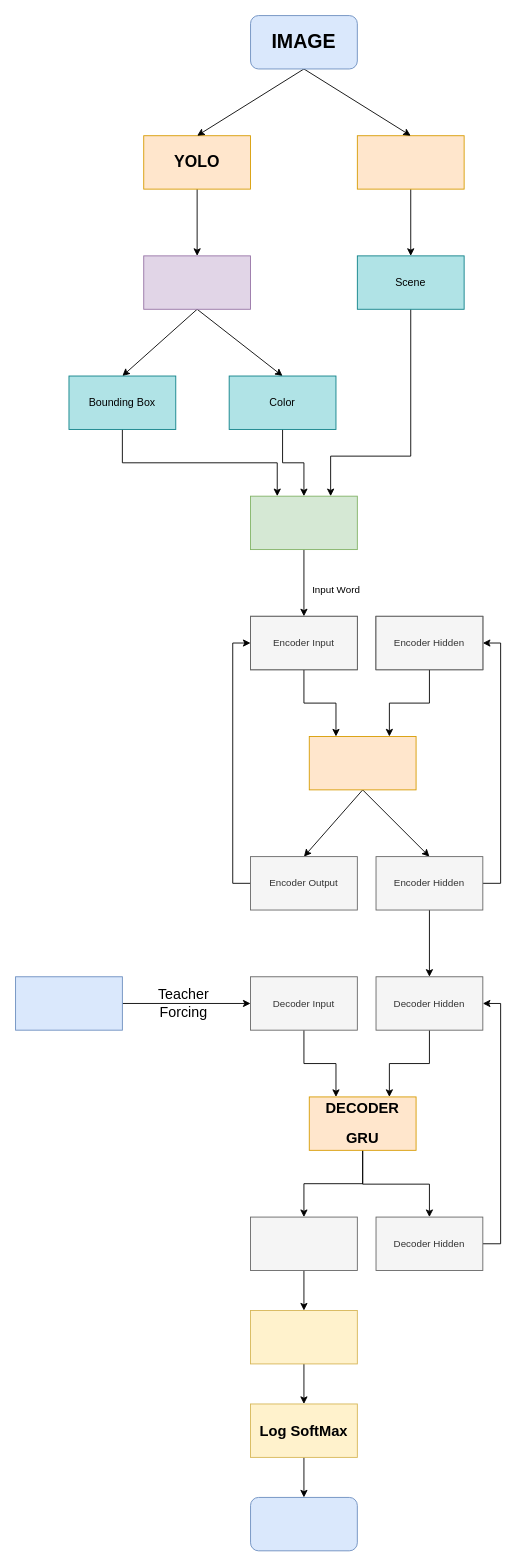
Image size: 523x1566. Some labels were removed from this diagram. Here are the shapes that lost their labels. From the top down, the centre of each, then its label:
At (410,162): "Resnet-Places365".
At (197,282): "Object".
At (303,522): "X Text Text representation of image".
At (362,763): "ENCODER GRU".
At (68,1003): "True Caption".
At (303,1243): "Decoder Output".
At (303,1337): "Linear".
At (303,1524): "WORD".
